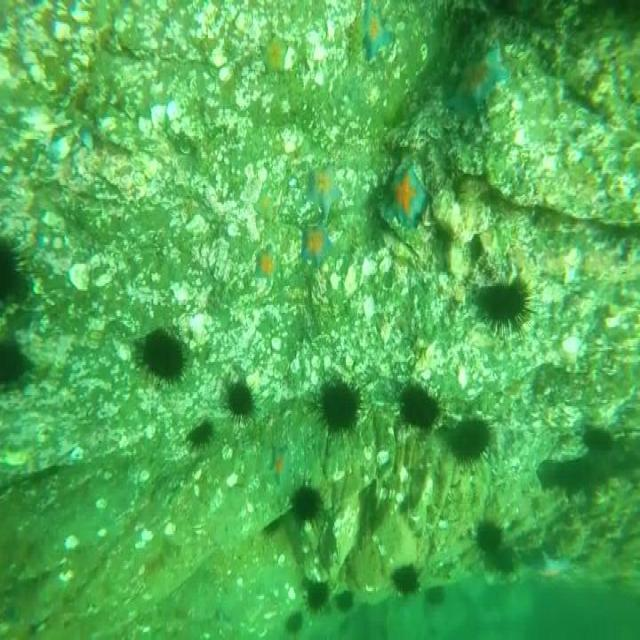echinus: (478, 272, 534, 340), (134, 330, 188, 390), (1, 234, 34, 306), (318, 386, 361, 439), (400, 382, 443, 433), (453, 421, 492, 462), (0, 342, 33, 386), (225, 381, 257, 423), (289, 486, 323, 522), (187, 420, 217, 452), (392, 564, 419, 597), (476, 522, 502, 556), (582, 427, 610, 455), (307, 583, 329, 610), (428, 585, 446, 607), (337, 592, 354, 614), (288, 612, 302, 632)
scallop: (562, 339, 581, 358), (376, 451, 393, 466)
starfish: (457, 46, 507, 125), (389, 164, 426, 229), (356, 0, 394, 63), (308, 164, 342, 217), (303, 224, 330, 268), (258, 246, 278, 283)
